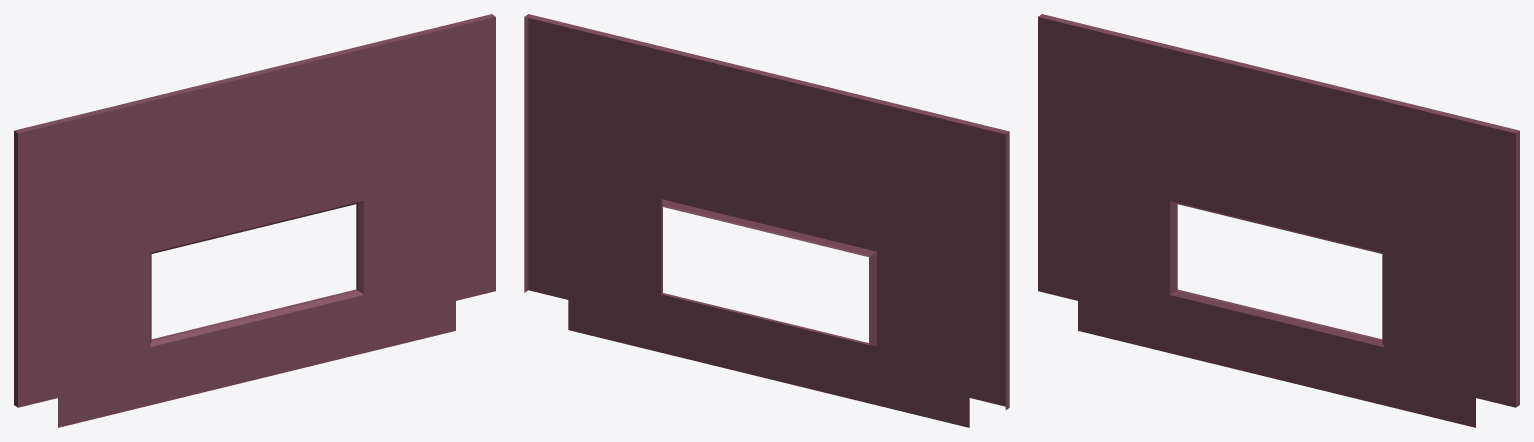
The model's file is windowhole.fbx.
3 views of the same model, side by side, from view 1: azimuth 30°, elevation 25°; view 2: azimuth 150°, elevation 25°; view 3: azimuth 330°, elevation 25° (orthographic).
Parts seen in each view (by area): view 1: pPlane2; view 2: pPlane2; view 3: pPlane2.
Boxes of the visible parts, box(x1,y1,x2,y2) form: pPlane2: box(14, 14, 495, 427); pPlane2: box(524, 14, 1009, 427); pPlane2: box(1038, 14, 1519, 427).
Size of the model in its own units: 26.13 by 15.89 by 0.3757.
